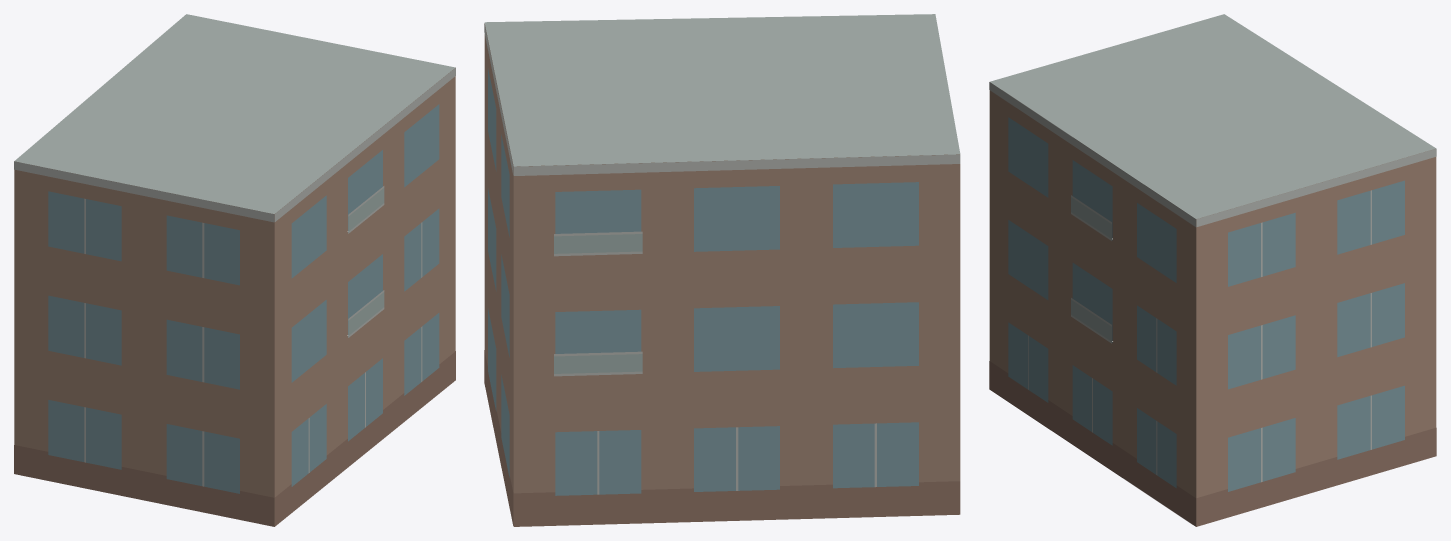
The model's file is survey-upis-32790393.glb.
3 renders of one model, left to right at view 1: azimuth 30°, elevation 25°; view 2: azimuth 150°, elevation 25°; view 3: azimuth 270°, elevation 25°, orthographic. The views are drawn at different scales.
Parts seen in each view (by area): view 1: survey-upis-32790393.tmp; view 2: survey-upis-32790393.tmp; view 3: survey-upis-32790393.tmp.
Part boxes in pixels (box(x1,y1,x2,y2)): survey-upis-32790393.tmp: box(14, 14, 455, 526); survey-upis-32790393.tmp: box(484, 14, 960, 526); survey-upis-32790393.tmp: box(989, 14, 1436, 526).
Size of the model in its own units: 13.09 by 9.15 by 12.05.
